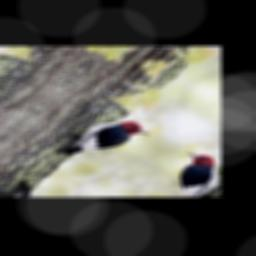Woodpecker: (58, 109, 155, 174)
